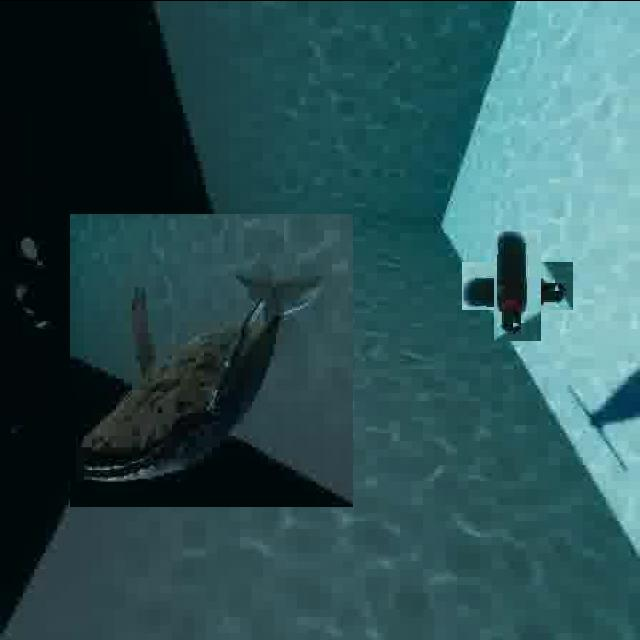Cylinder: (478, 246, 558, 324)
Whale: (68, 216, 356, 504)
